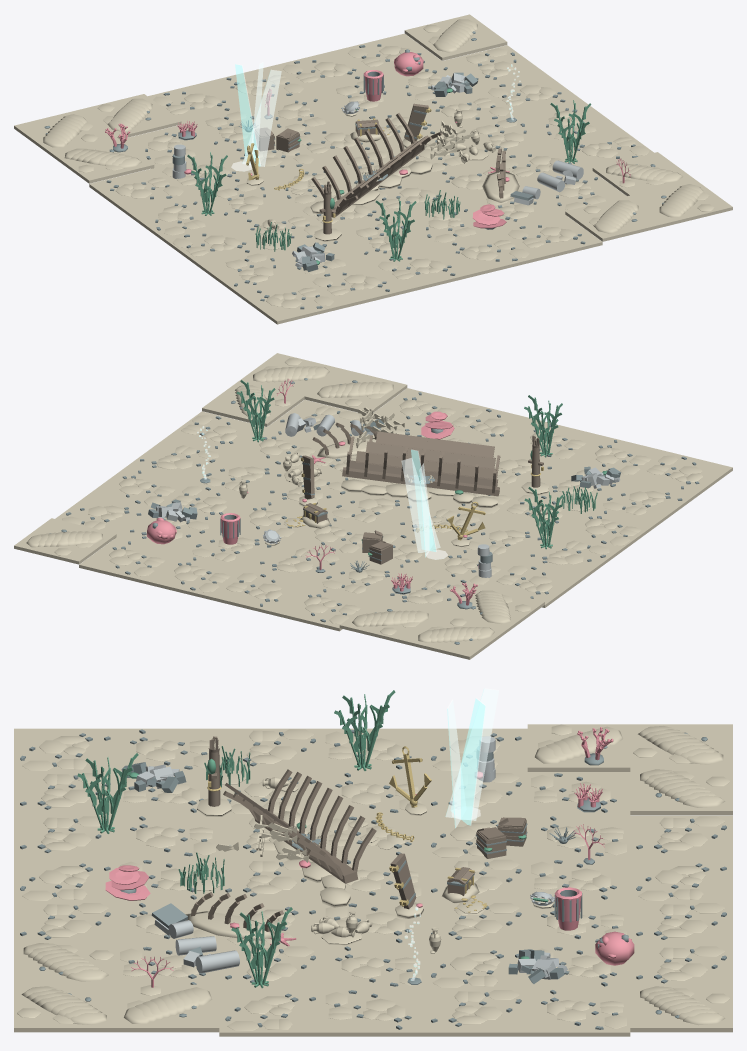
File: sunken-city-and-underwater-ruins-wreck-on-the-sand-fla-18c59e73__37001.glb
3 renders of one model, top to bottom at view 1: azimuth 30°, elevation 25°; view 2: azimuth 150°, elevation 25°; view 3: azimuth 270°, elevation 25°, orthographic. The views are drawn at different scales.
Visible parts, largest first — view 1: 049-shipwreck-hull-section/0, 083-light-shaft-plate/0, 041-sand-drift-module/0, 042-sand-drift-module/0, 006-silted-floor-module/0, 048-sand-drift-module/0, 001-sand-drift-module/0, 027-silted-floor-module/0, 034-silted-floor-module/0, 013-silted-floor-module/0, 020-silted-floor-module/0, 007-sand-drift-module/0 (+51 smaller); view 2: 049-shipwreck-hull-section/0, 000-sand-drift-module/0, 042-sand-drift-module/0, 041-sand-drift-module/0, 007-sand-drift-module/0, 028-silted-floor-module/0, 035-silted-floor-module/0, 021-silted-floor-module/0, 006-silted-floor-module/0, 005-silted-floor-module/0, 004-silted-floor-module/0, 014-silted-floor-module/0 (+47 smaller); view 3: 047-sand-drift-module/0, 048-sand-drift-module/0, 042-sand-drift-module/0, 007-sand-drift-module/0, 049-shipwreck-hull-section/0, 043-silted-floor-module/0, 044-silted-floor-module/0, 046-silted-floor-module/0, 045-silted-floor-module/0, 000-sand-drift-module/0, 001-sand-drift-module/0, 041-sand-drift-module/0 (+63 smaller).
Boxes of the visible parts, x1,y1,x2,y2 form: 049-shipwreck-hull-section/0: (311,113,442,217); 083-light-shaft-plate/0: (231,62,281,171); 041-sand-drift-module/0: (565,195,667,241); 042-sand-drift-module/0: (404,14,507,60); 006-silted-floor-module/0: (239,278,342,324); 048-sand-drift-module/0: (630,179,732,225); 001-sand-drift-module/0: (51,137,154,183); 027-silted-floor-module/0: (435,230,537,276); 034-silted-floor-module/0: (500,214,602,260); 013-silted-floor-module/0: (305,262,407,308); 020-silted-floor-module/0: (370,246,472,292); 007-sand-drift-module/0: (79,94,181,139); 049-shipwreck-hull-section/0: (342,431,500,496); 000-sand-drift-module/0: (404,613,507,659); 042-sand-drift-module/0: (14,518,116,564); 041-sand-drift-module/0: (304,369,407,412); 007-sand-drift-module/0: (339,597,441,643); 028-silted-floor-module/0: (144,553,246,599); 035-silted-floor-module/0: (79,537,181,583); 021-silted-floor-module/0: (209,569,311,615); 006-silted-floor-module/0: (630,451,732,497); 005-silted-floor-module/0: (595,479,695,525); 004-silted-floor-module/0: (555,507,657,552); 014-silted-floor-module/0: (274,585,373,631); 047-sand-drift-module/0: (116,984,219,1032); 048-sand-drift-module/0: (14,984,116,1032); 042-sand-drift-module/0: (630,984,732,1032); 007-sand-drift-module/0: (630,767,732,815); 049-shipwreck-hull-section/0: (223,769,376,883); 043-silted-floor-module/0: (527,989,630,1036); 044-silted-floor-module/0: (425,989,527,1036); 046-silted-floor-module/0: (219,989,321,1036); 045-silted-floor-module/0: (322,989,424,1036); 000-sand-drift-module/0: (630,724,732,767); 001-sand-drift-module/0: (527,724,630,771); 041-sand-drift-module/0: (14,941,116,984).
Bounding box in the file's own units: 28 × 5.85 × 28.
